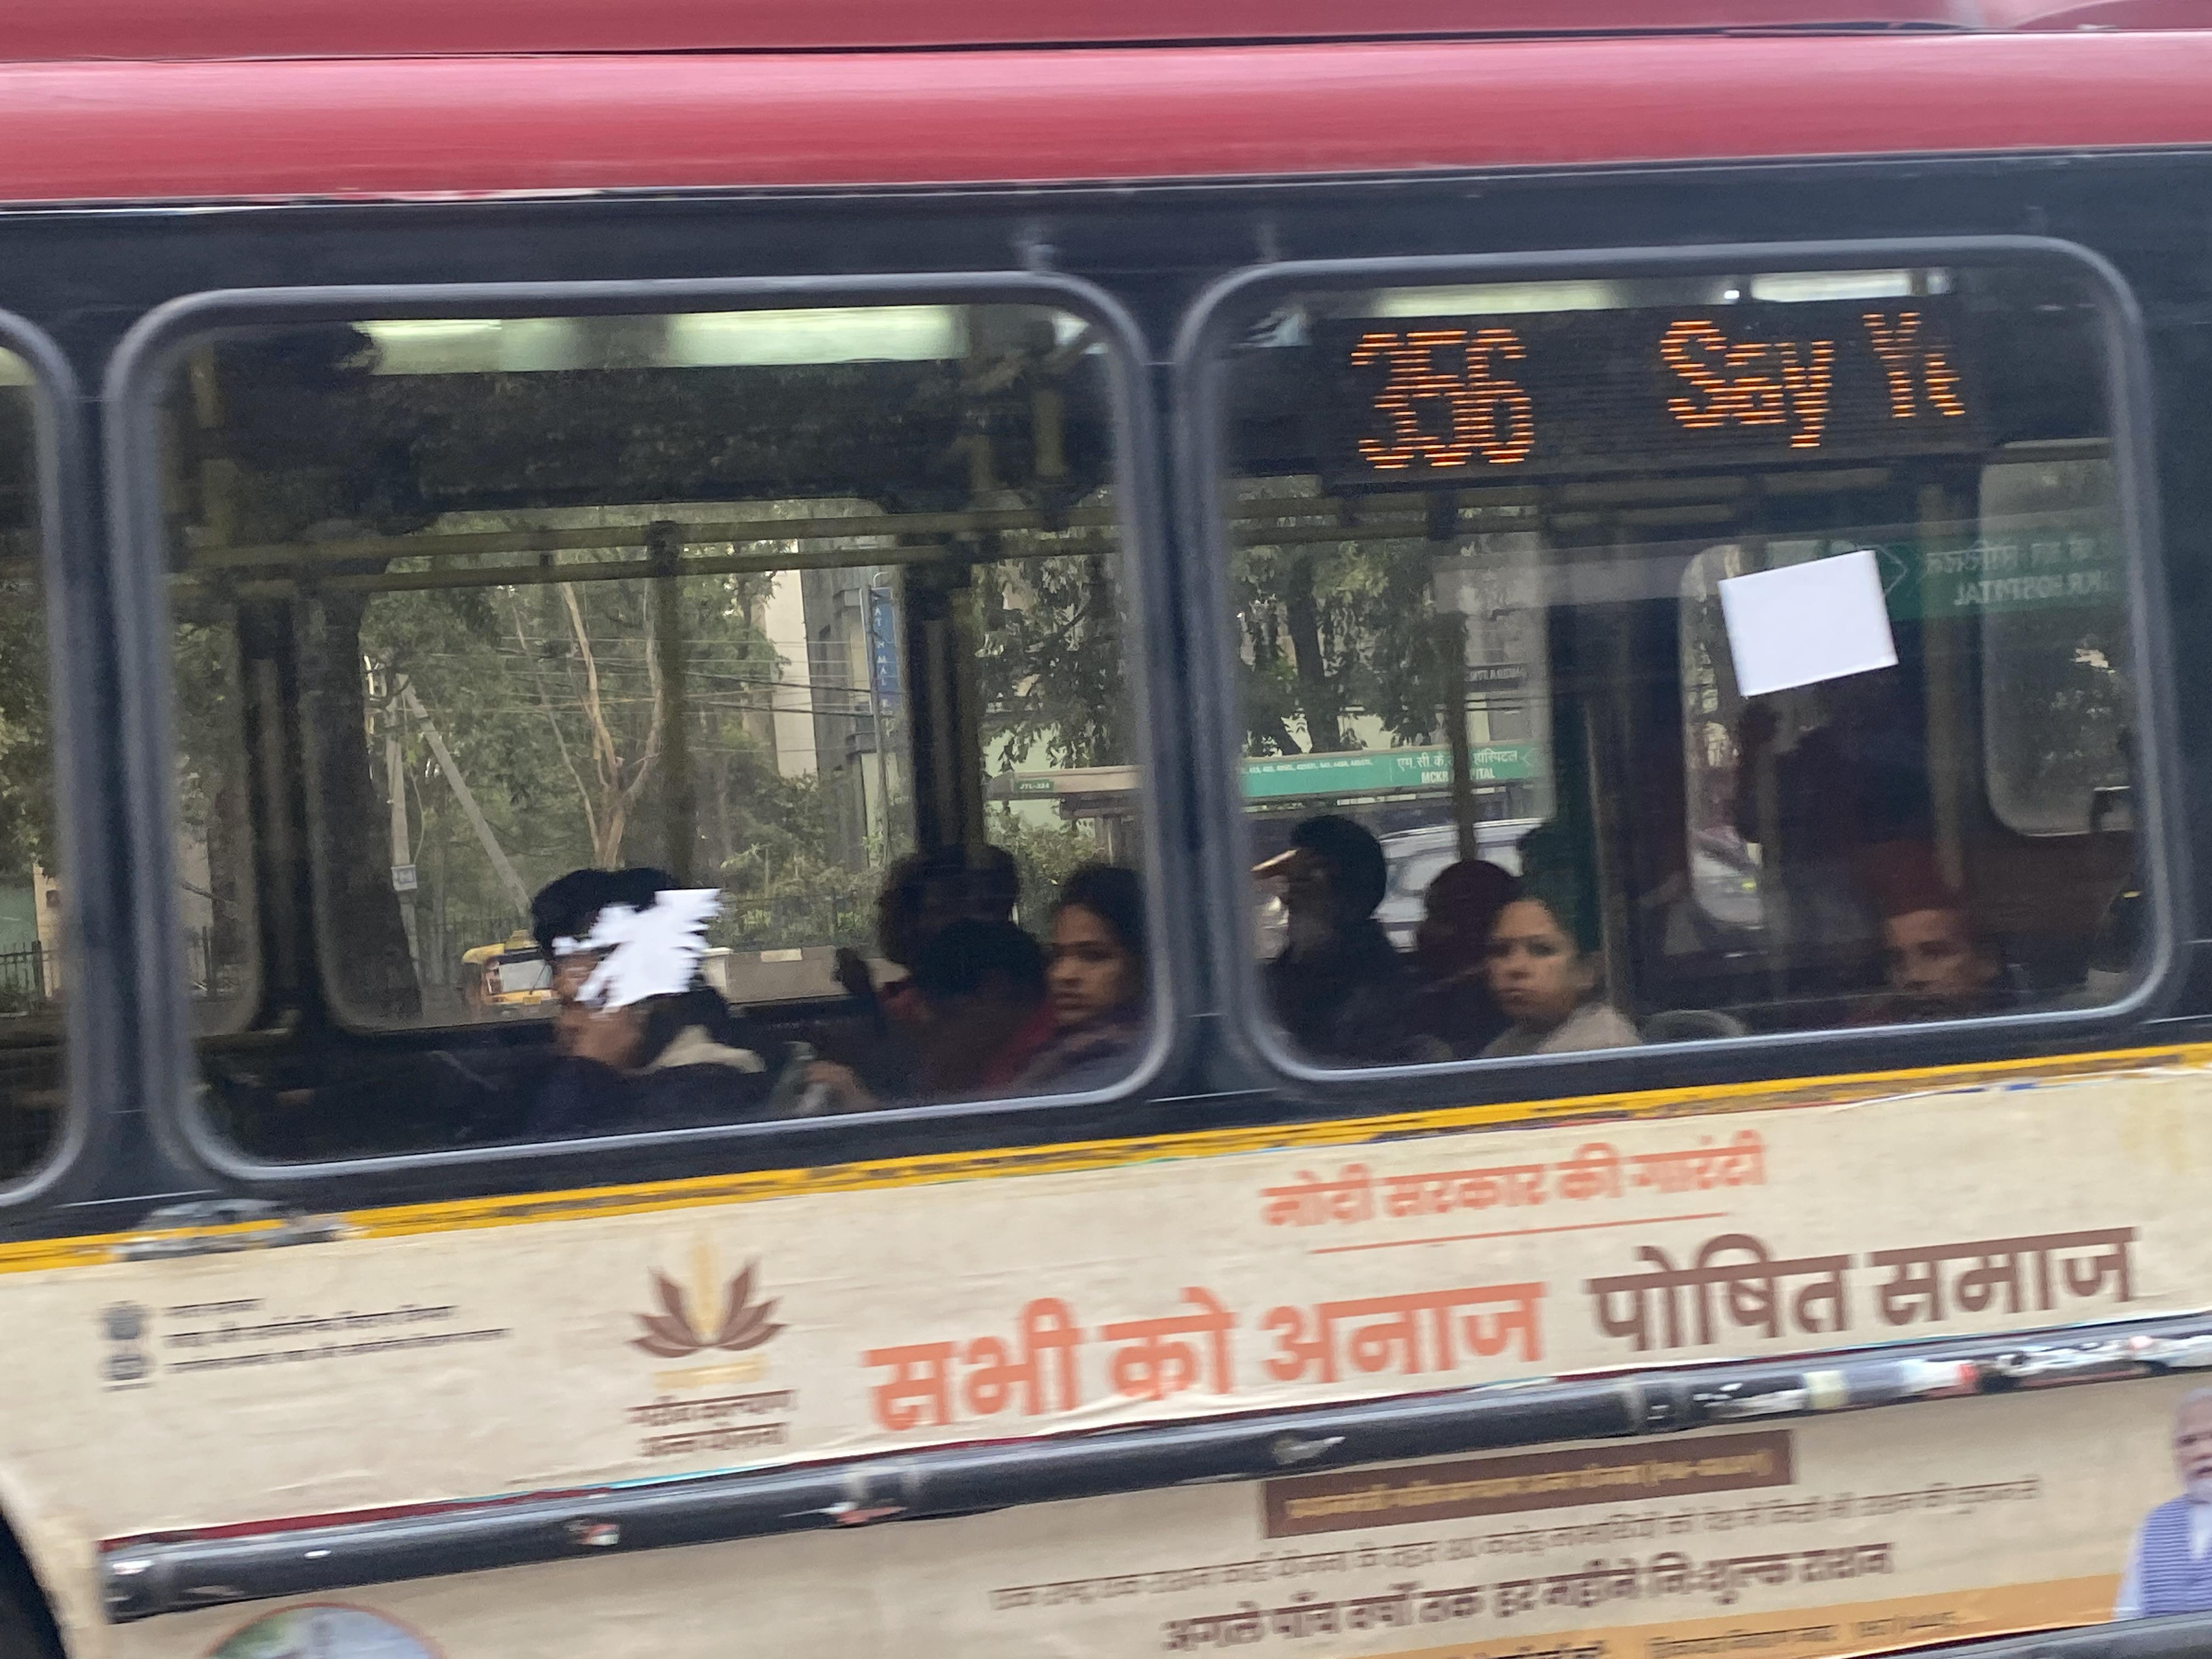Bus: (0, 16, 2212, 1645)
Display Board: (1317, 258, 2047, 516)
